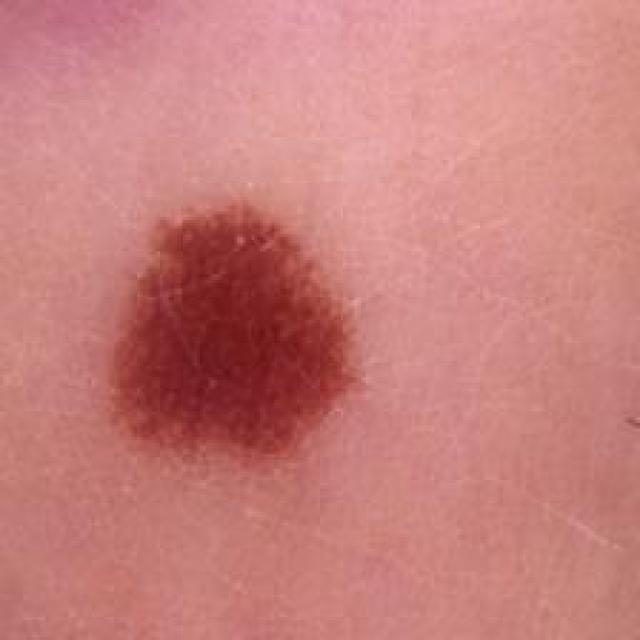Cancer: (103, 197, 363, 463)
